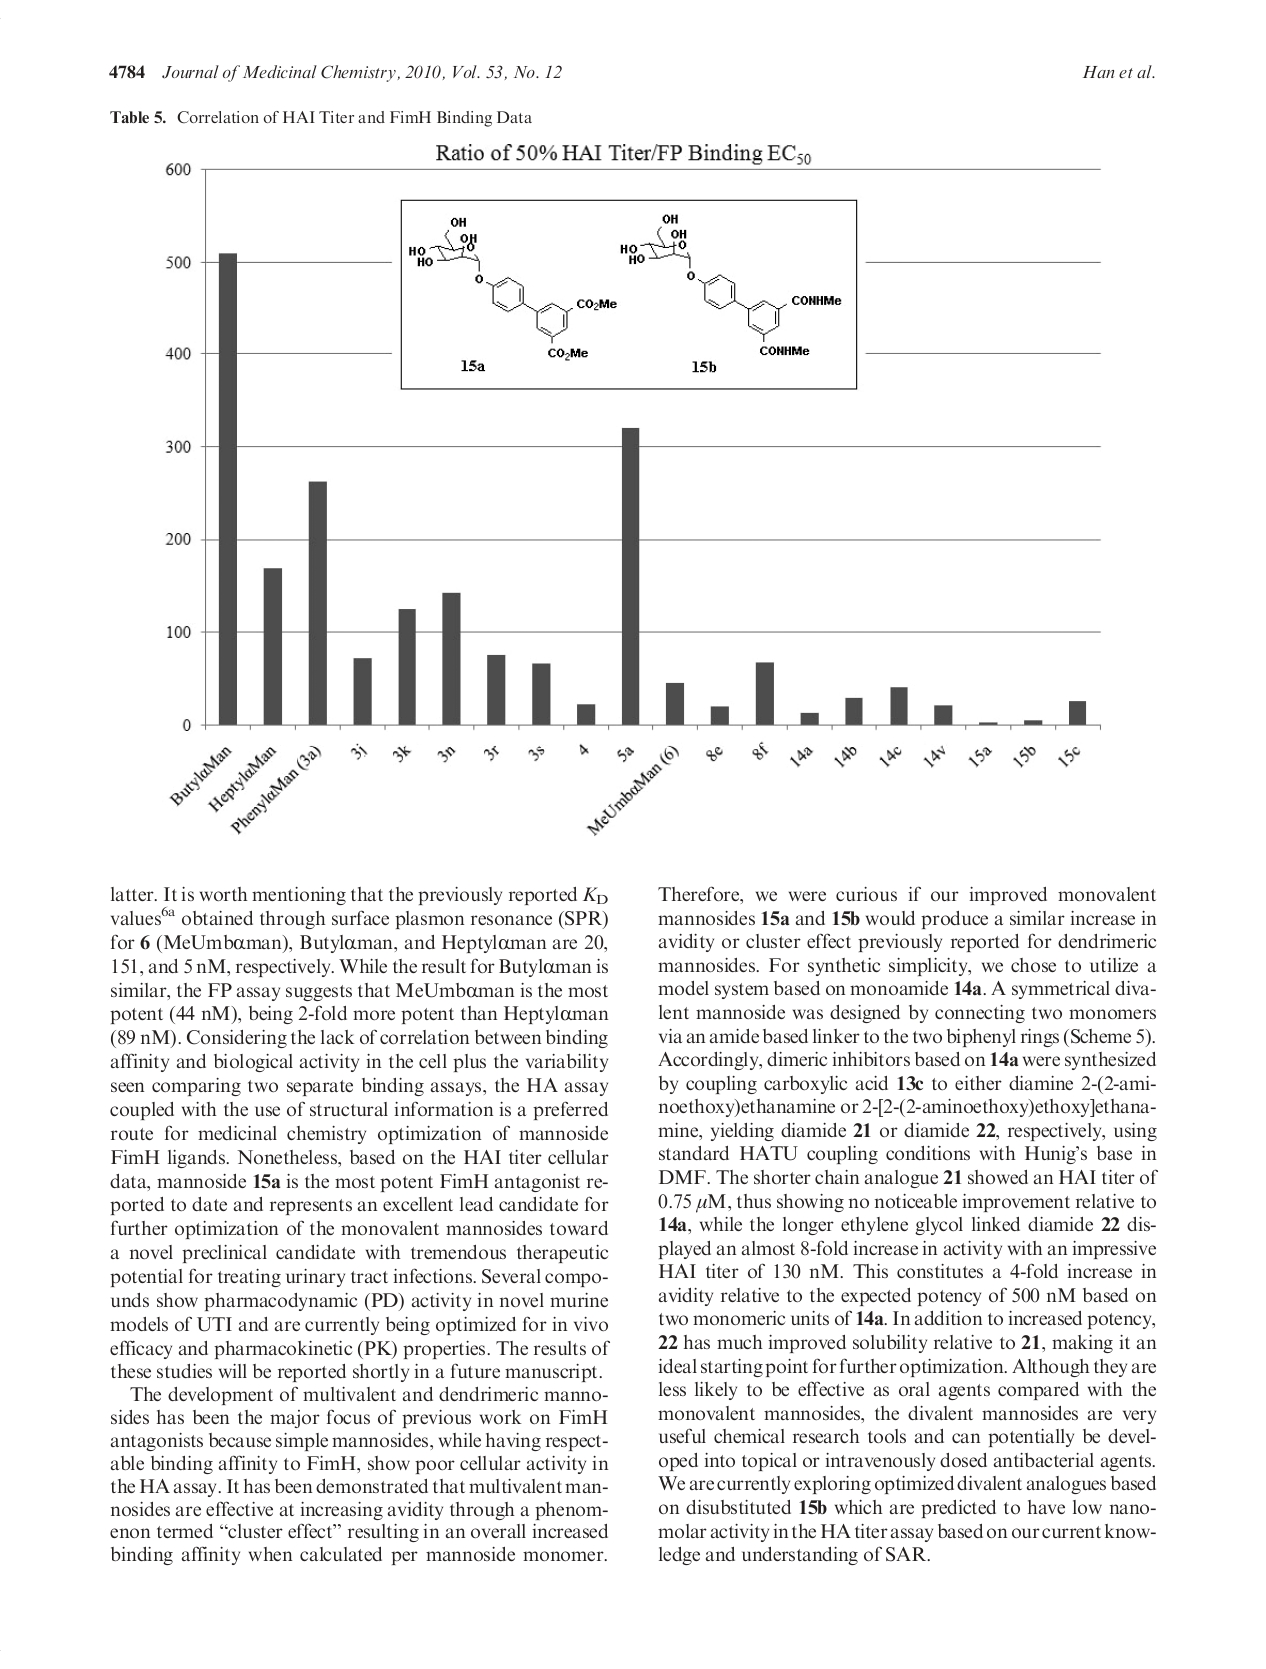exist_molecular: (617, 214, 842, 358), (406, 217, 617, 362)
